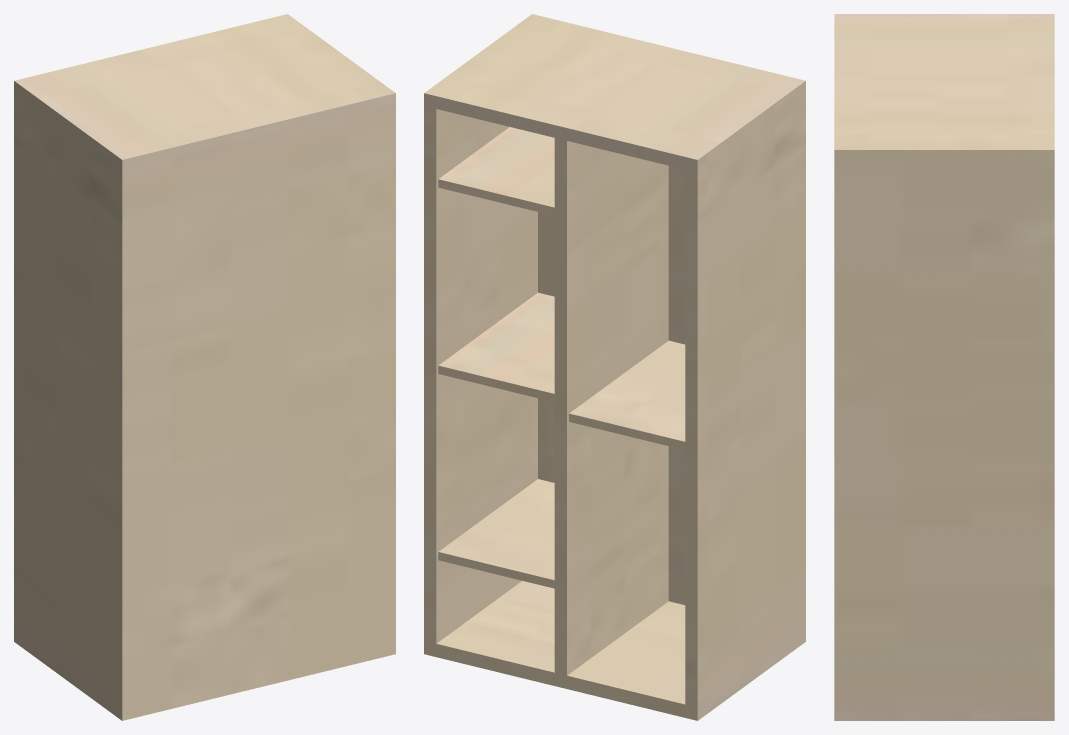
The model's file is Closet06.glb.
3 renders of one model, left to right at view 1: azimuth 30°, elevation 25°; view 2: azimuth 150°, elevation 25°; view 3: azimuth 270°, elevation 25°, orthographic.
Parts seen in each view (by area): view 1: Closet06_model; view 2: Closet06_model; view 3: Closet06_model.
Part boxes in pixels (bbox=[...]): Closet06_model: bbox=[14, 14, 395, 720]; Closet06_model: bbox=[424, 14, 805, 720]; Closet06_model: bbox=[834, 14, 1054, 720].
Bounding box in the file's own units: 2.86 × 5.6 × 1.96.
Materials: 1 (1 with a texture image).
